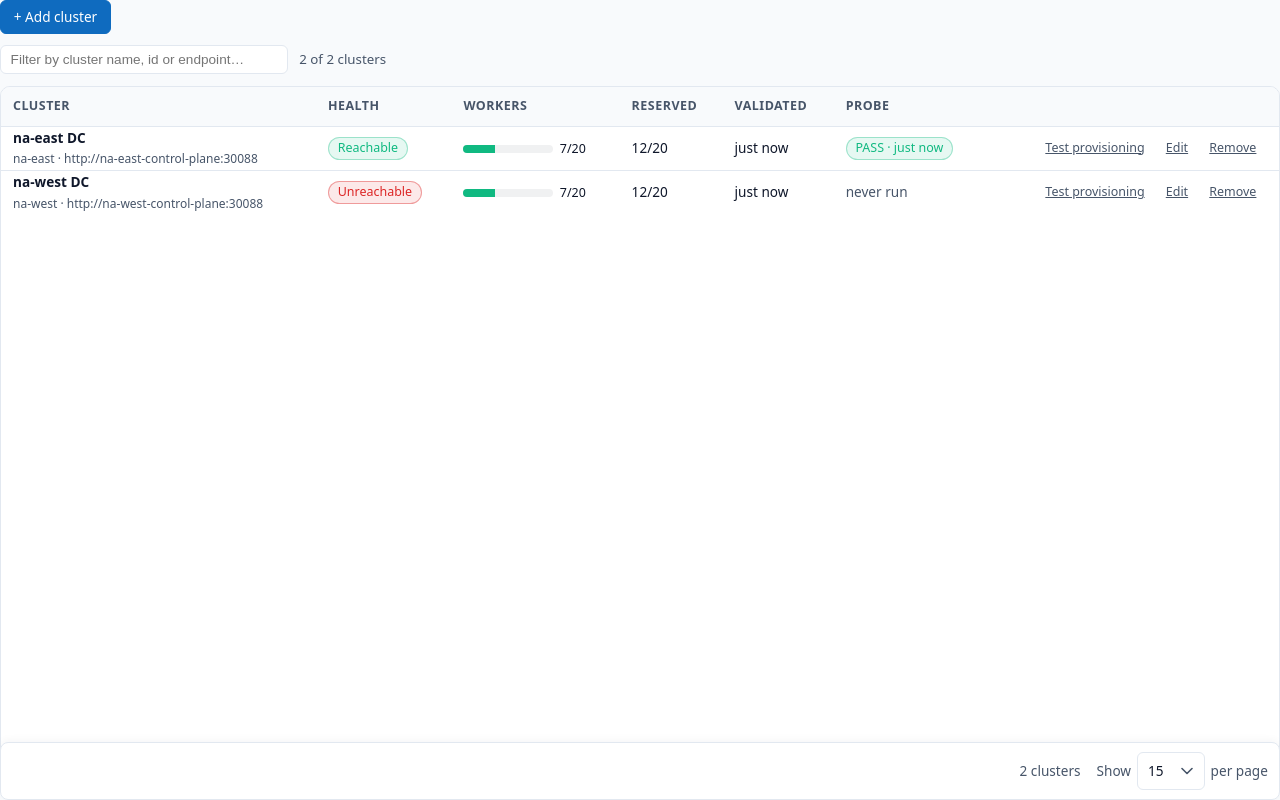
Test: ClustersPage (CLUSTER-CAPACITY) › removal confirms in a dialog and surfaces CLUSTER_IN_USE as a toast
Click the button "Remove" in the row of "na-east DC" at [1233, 148], box [1199,134,1267,162]
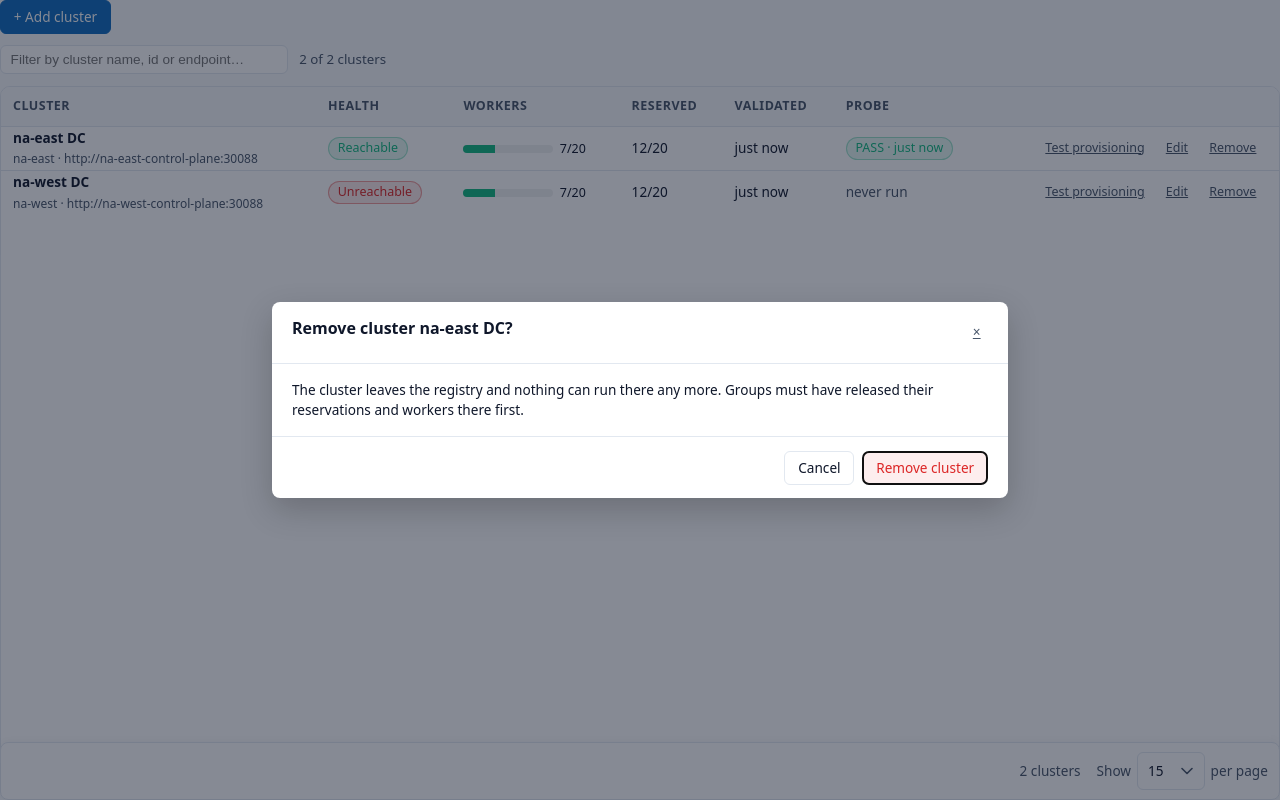
Click the button "Remove cluster" at [925, 468], box [862,451,988,485]
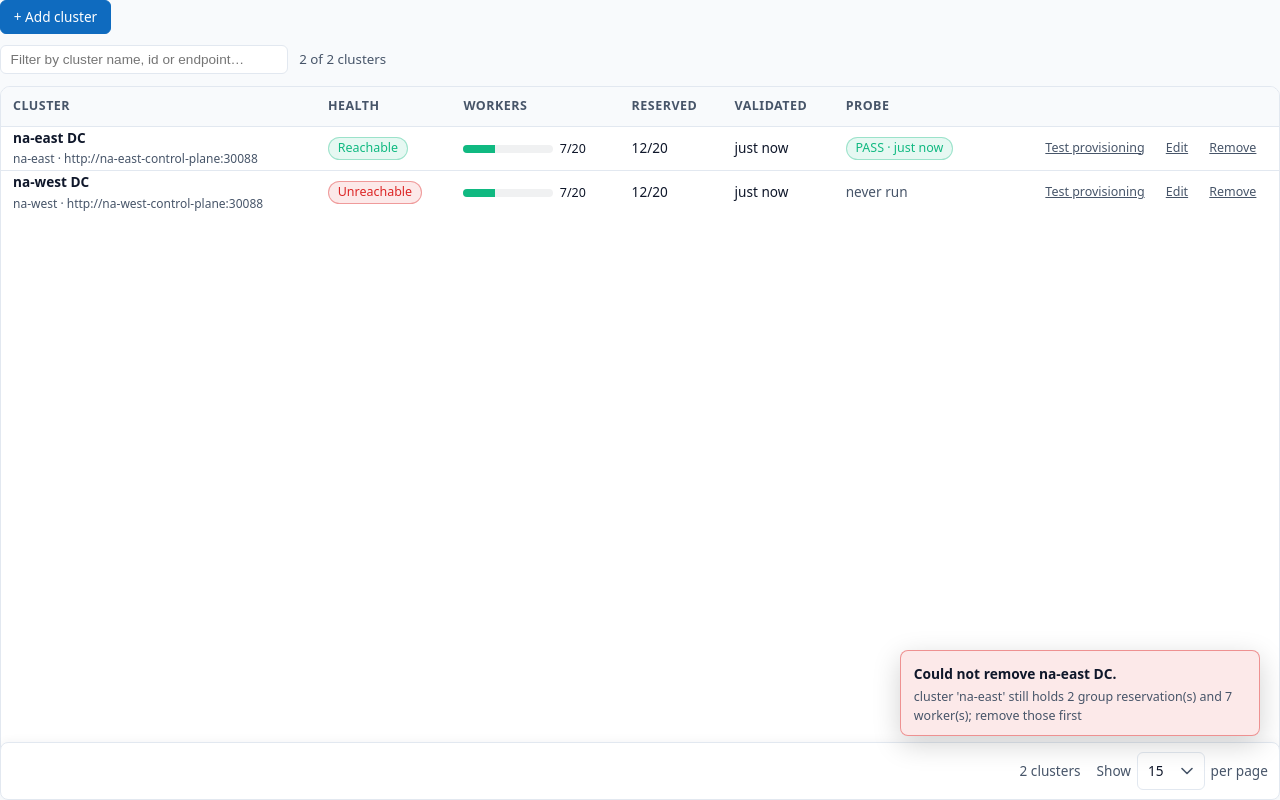
Now the text "still holds 2 group reservation" is shown, box [914,688,1232,724]
